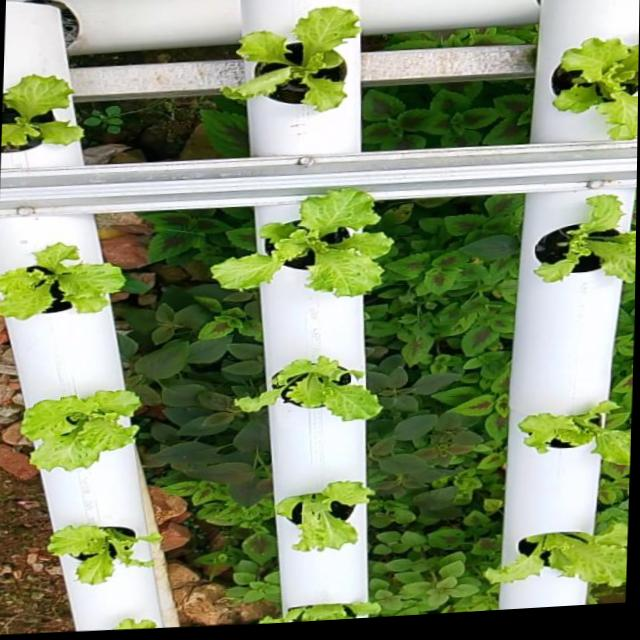Baby: (205, 190, 386, 295), (214, 10, 353, 114), (542, 26, 639, 141), (524, 195, 636, 284), (16, 388, 137, 469), (229, 354, 376, 418), (479, 518, 627, 581), (0, 243, 121, 320), (510, 397, 630, 463), (44, 522, 158, 581), (270, 478, 367, 547), (1, 77, 78, 152)
